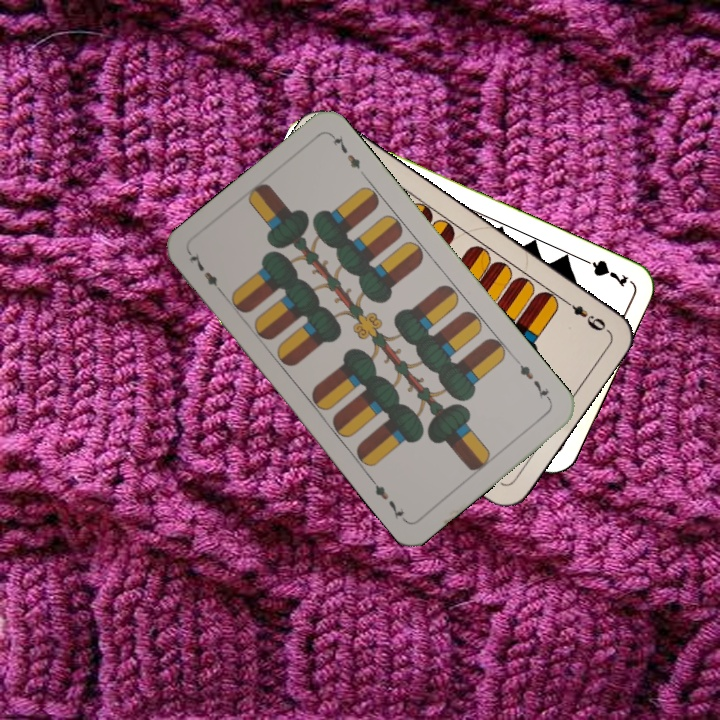E7: (184, 249, 228, 298), (512, 355, 554, 405)
E9: (559, 295, 610, 334)
G7: (575, 253, 631, 290)
